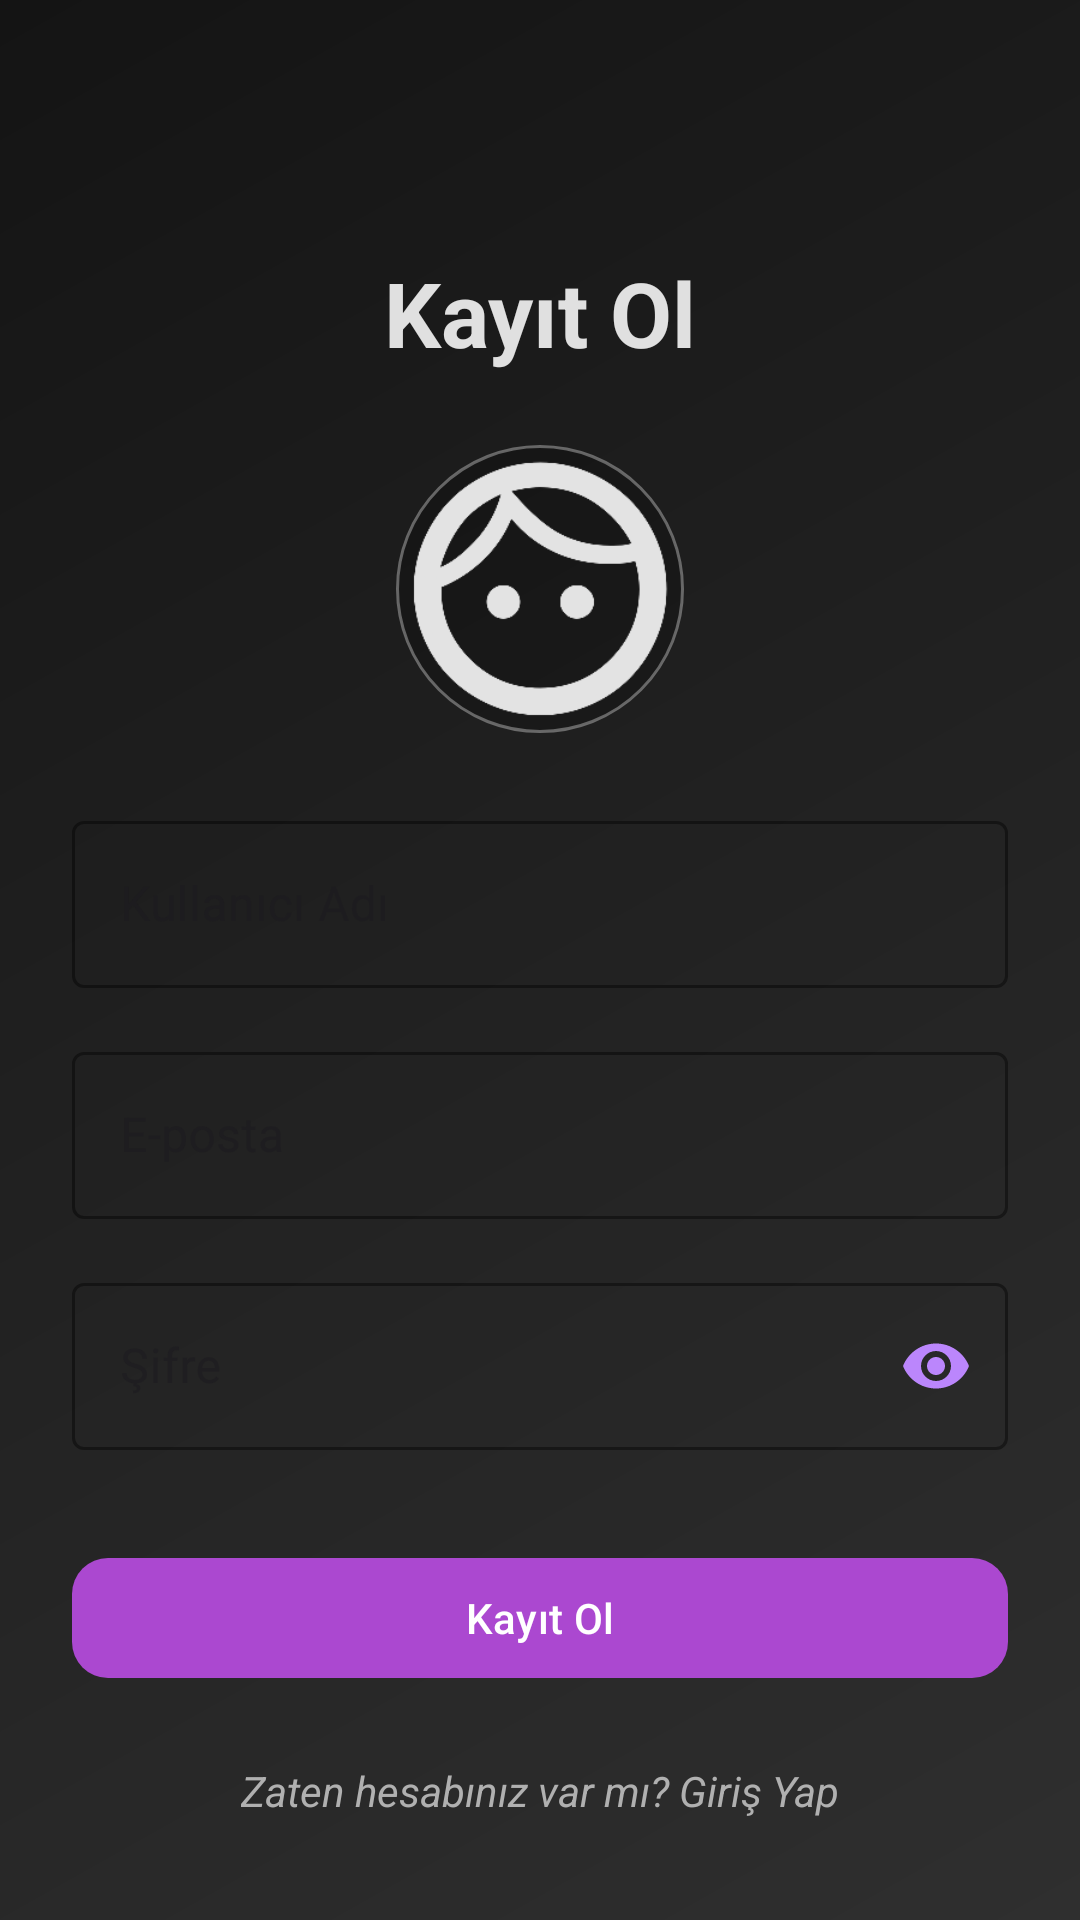

Where to tap for icons on this 1080x1920 app screen, as (x,y):
Profil Fotoğrafı: (540,589)
